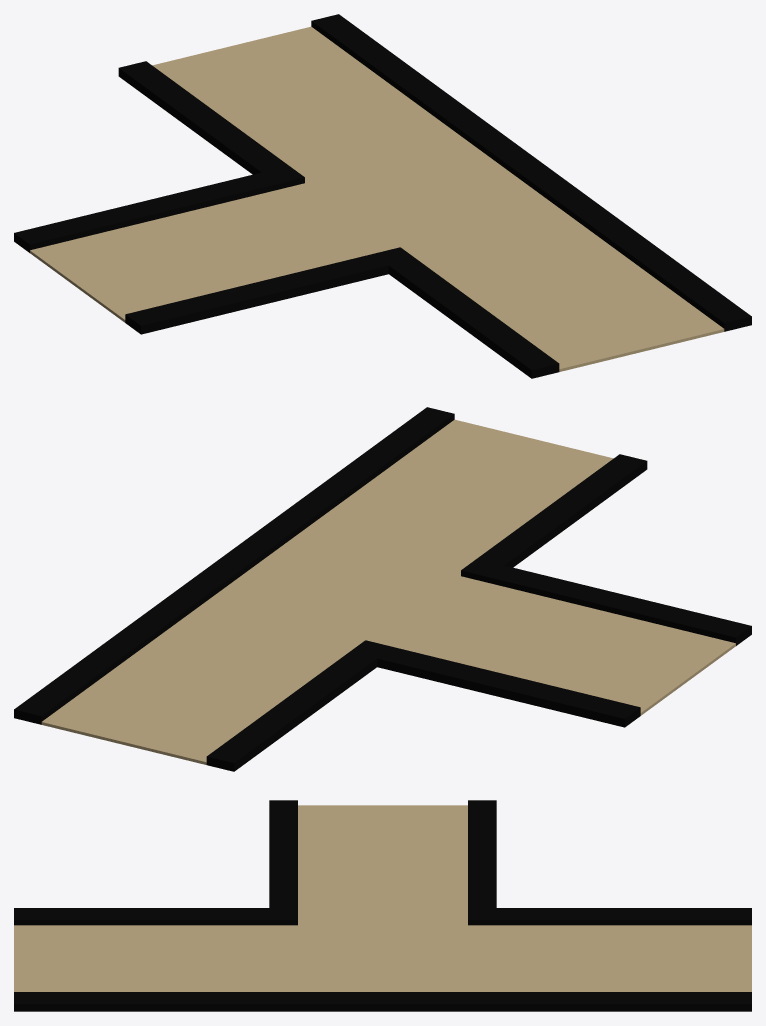
File: TJuncV1.fbx
3 renders of one model, top to bottom at view 1: azimuth 30°, elevation 25°; view 2: azimuth 150°, elevation 25°; view 3: azimuth 270°, elevation 25°, orthographic. The views are drawn at different scales.
Visible parts, largest first — view 1: Box004; view 2: Box004; view 3: Box004.
Boxes of the visible parts, left/top/right/bottom form: Box004: left=14, top=14, right=751, bottom=378; Box004: left=14, top=407, right=751, bottom=771; Box004: left=14, top=800, right=751, bottom=1011.
Bounding box in the file's own units: 850 × 15 × 1300.
